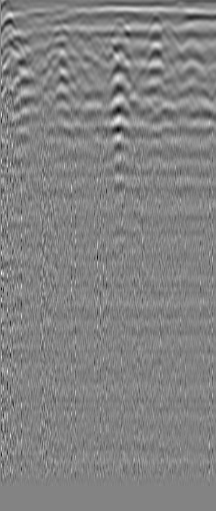오수: (20, 25, 52, 50)
우수: (174, 21, 207, 56)
